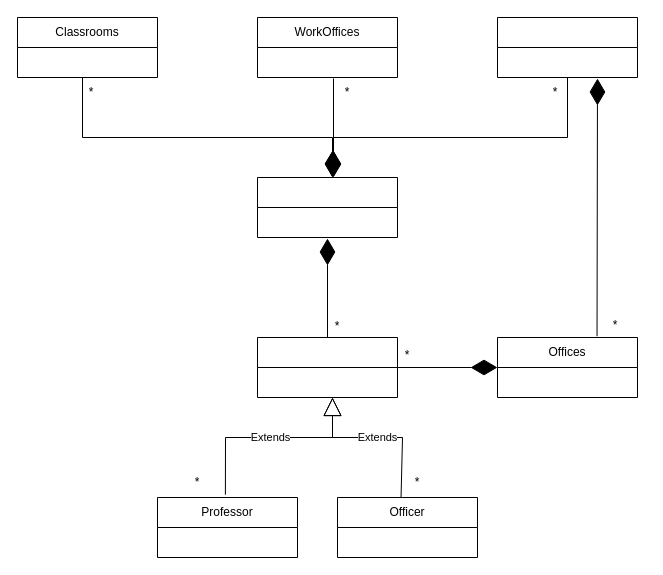
This 663x575 diagram has some shape labels left out. The centre of each missing label's shape, as x and y in pixels:
"Departments" belongs at pixel 567 47.
"Employees" belongs at pixel 327 367.
"University" belongs at pixel 327 207.
